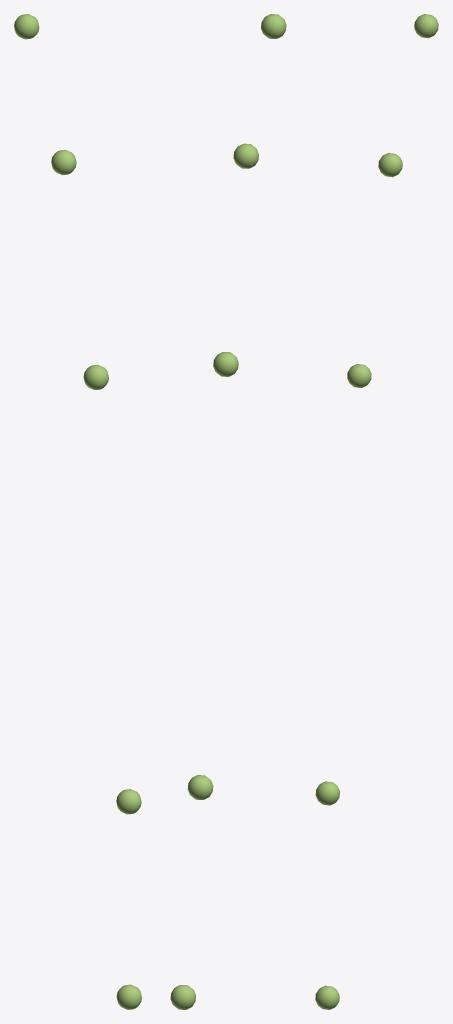
The model's file is retrocaval-nodes.glb.
The picture shows the model from 3 angles, left to right: view 1: azimuth 90°, elevation 25°; view 2: azimuth 210°, elevation 25°; view 3: azimuth 270°, elevation 25°; orthographic projection. The views are drawn at different scales.
Parts seen in each view (by area): view 1: Retrocaval nodes; view 2: Retrocaval nodes; view 3: Retrocaval nodes.
Boxes of the visible parts, left/top/right/bottom form: Retrocaval nodes: left=14, top=14, right=141, bottom=1009; Retrocaval nodes: left=170, top=14, right=286, bottom=1009; Retrocaval nodes: left=315, top=14, right=438, bottom=1009.
Size of the model in its own units: 0.00702 by 0.113 by 0.0129.
